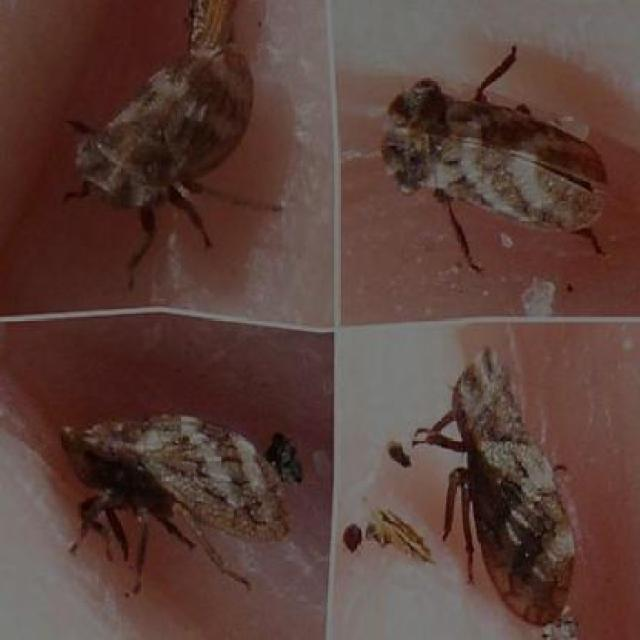brown-planthopper: (55, 402, 298, 598), (371, 70, 609, 244), (440, 342, 578, 628), (68, 32, 257, 234)
